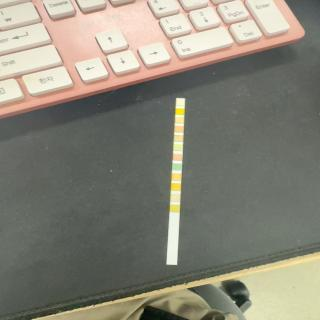mark: (171, 183, 181, 191), (170, 194, 180, 202), (173, 144, 183, 151), (174, 135, 184, 142), (172, 173, 182, 180), (170, 205, 180, 212), (173, 154, 183, 160), (172, 164, 182, 170), (176, 100, 185, 106), (174, 126, 183, 132), (175, 118, 184, 124), (176, 109, 184, 115)
